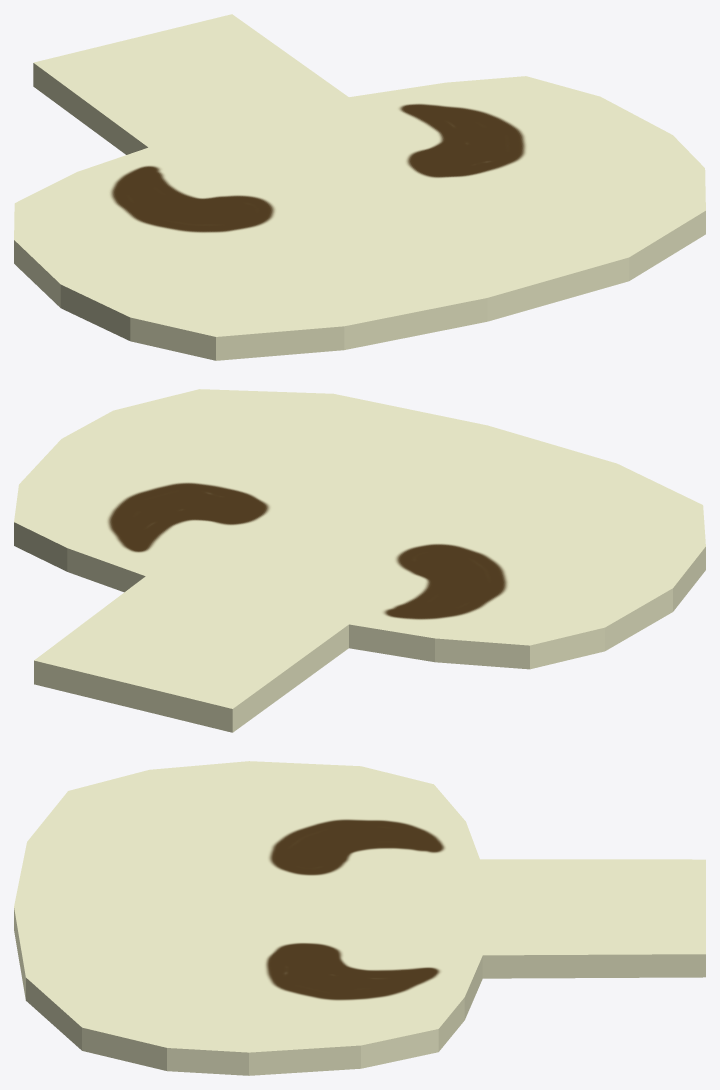
Rendered from Mushroom.fbx.
3 views of the same model, one above another, from view 1: azimuth 30°, elevation 25°; view 2: azimuth 150°, elevation 25°; view 3: azimuth 270°, elevation 25° (orthographic). The views are drawn at different scales.
Parts seen in each view (by area): view 1: Circle; view 2: Circle; view 3: Circle.
Part boxes in pixels (box(x1,y1,x2,y2)): Circle: box(14, 14, 705, 360); Circle: box(14, 389, 705, 732); Circle: box(14, 761, 705, 1075).
Bounding box in the file's own units: 14.27 × 0.531 × 14.31.
